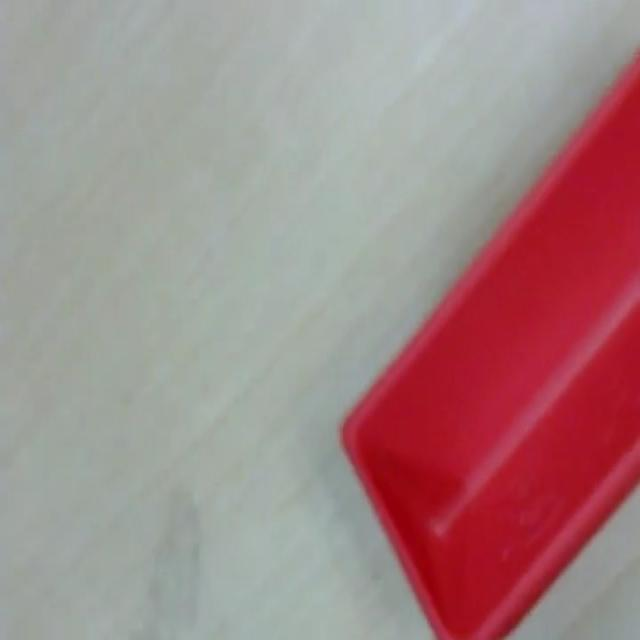red_block: (338, 45, 638, 636)
